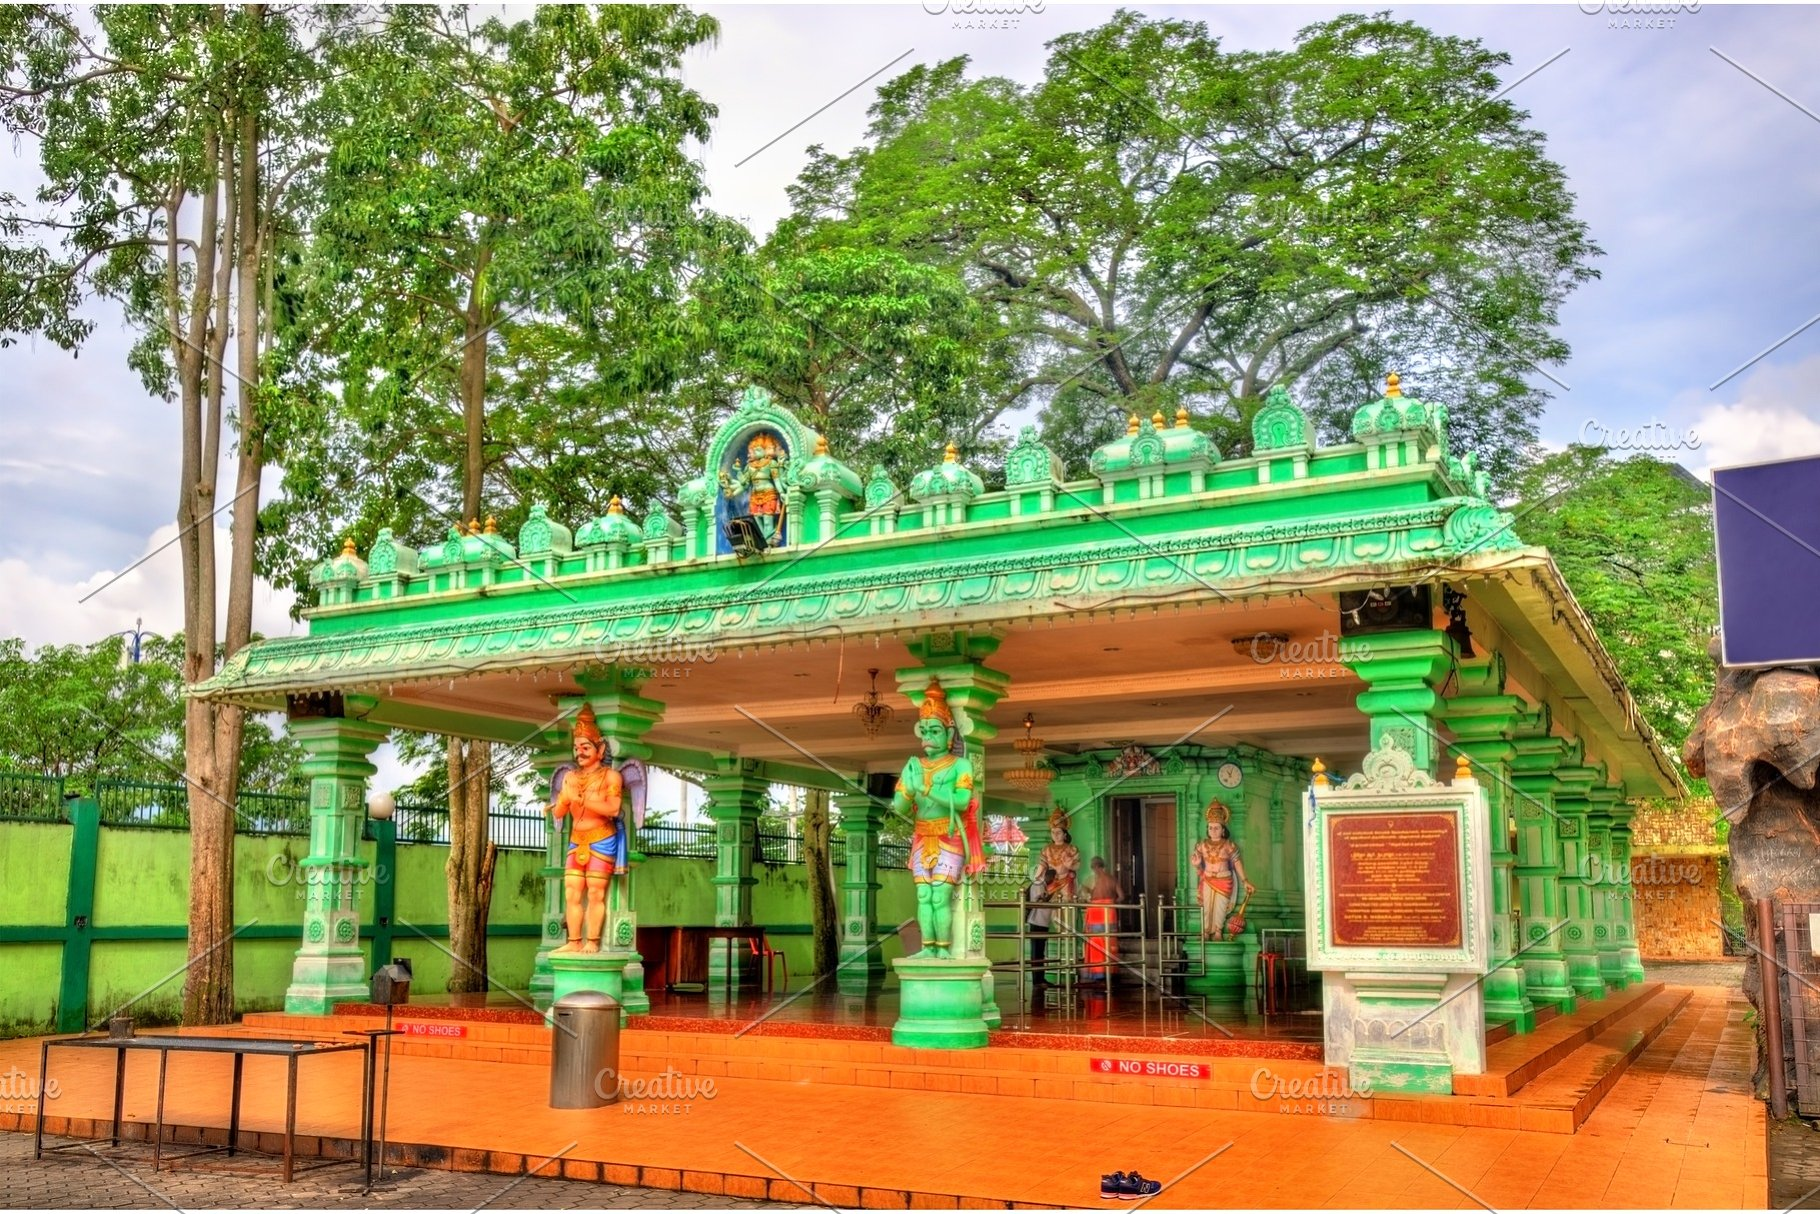Hindu Temple: (234, 411, 1542, 1031)
